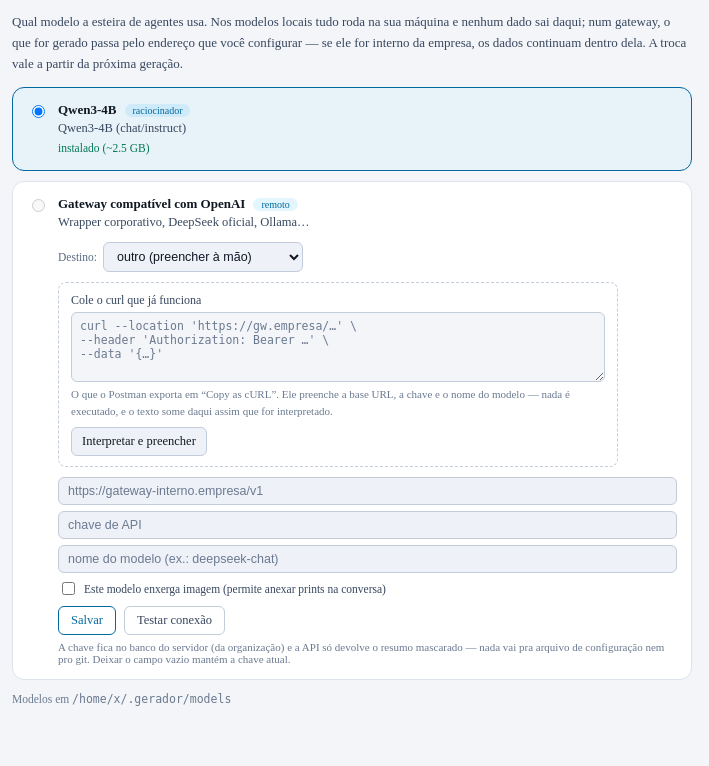
Test case: ModeloIaTab — card do gateway (SPEC-25 Fase 2) › escolher Claude preenche base URL e modelo — ninguém tem que adivinhar a URL
Select "Claude (Anthropic)" in the dropdown named "Destino conhecido": (203, 257) [103,242,303,272]
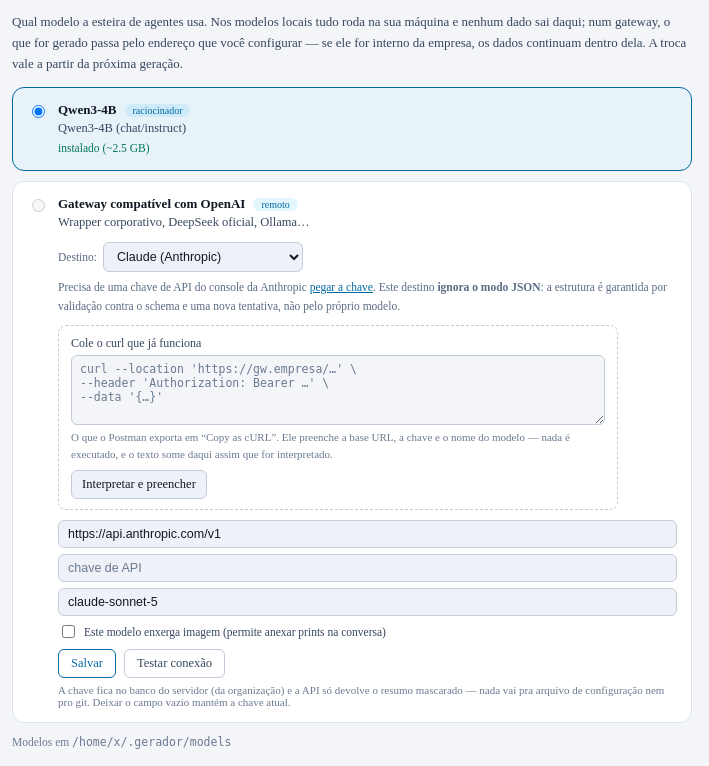
Expected: the field named "Base URL do gateway" holds "https://api.anthropic.com/v1", [58,520,677,548]
Expected: the field named "nome do modelo" holds "claude-sonnet-5", [58,588,677,616]
